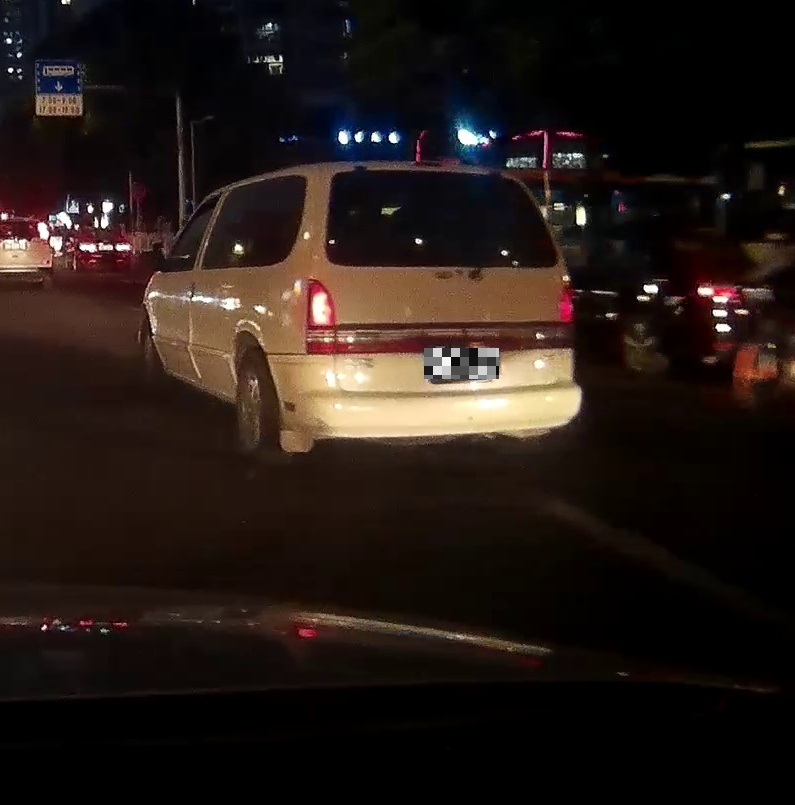L_light: (305, 278, 336, 354)
R_light: (556, 282, 576, 348)
T_light: (418, 169, 451, 179)
night-left: (304, 161, 582, 457)
plate_1: (424, 348, 499, 379)
